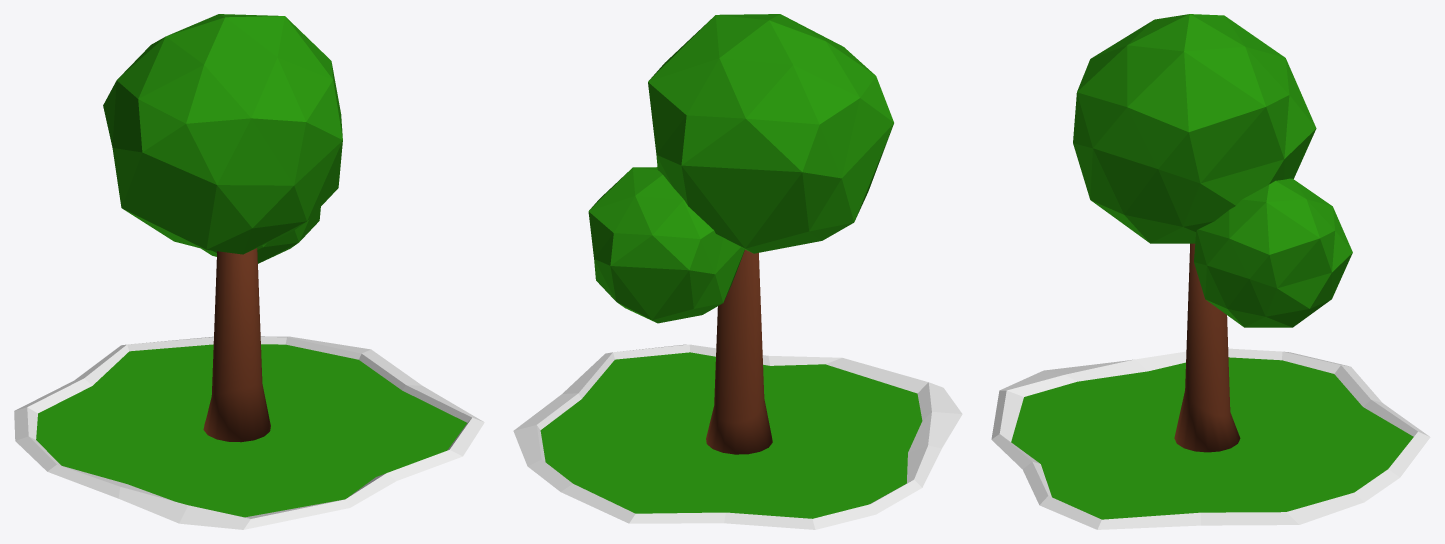
File: Tree.fbx
The picture shows the model from 3 angles, left to right: view 1: azimuth 30°, elevation 25°; view 2: azimuth 150°, elevation 25°; view 3: azimuth 270°, elevation 25°; orthographic projection.
Parts seen in each view (by area): view 1: TreeGround, Tree; view 2: Tree, TreeGround; view 3: Tree, TreeGround.
Part boxes in pixels (box(x1,y1,x2,y2)): TreeGround: box(14, 336, 484, 529); Tree: box(103, 14, 342, 442); Tree: box(588, 14, 893, 454); TreeGround: box(513, 344, 962, 529); Tree: box(1073, 14, 1352, 452); TreeGround: box(991, 348, 1430, 529).
Size of the model in its own units: 446 by 414 by 424.
